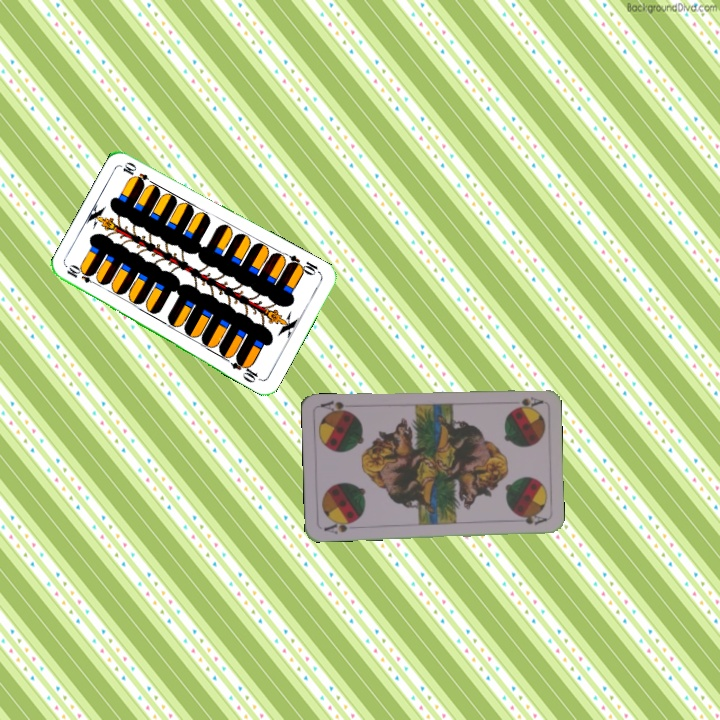E10: (283, 251, 323, 278), (63, 262, 102, 288)
SA: (320, 517, 359, 536), (509, 393, 545, 411)
